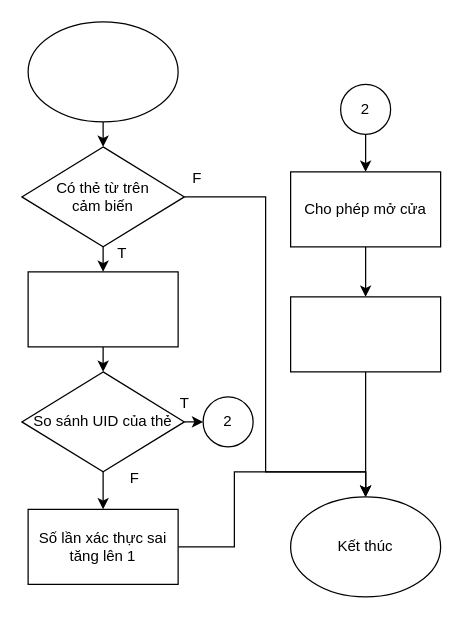
The diagram is 463 pixels wide and 619 high, and some of its shapes have lost their labels. Here are the shapes that lost their labels. From the top down, the centre of each, then its label:
At pixel 102 71: "Bắt đầu".
At pixel 102 309: "Lấy UID thẻ từ".
At pixel 365 334: "Lưu lịch sử".
